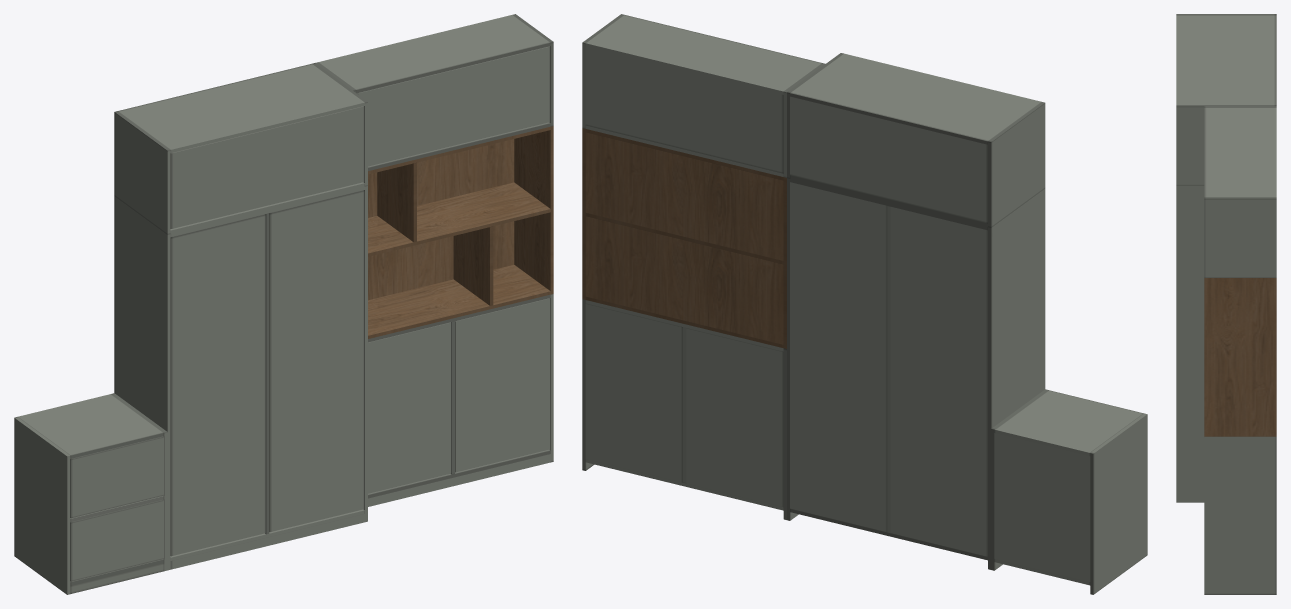
Rendered from meublep.glb.
3 renders of one model, left to right at view 1: azimuth 30°, elevation 25°; view 2: azimuth 150°, elevation 25°; view 3: azimuth 270°, elevation 25°, orthographic. The views are drawn at different scales.
Parts seen in each view (by area): view 1: world; view 2: world; view 3: world.
Boxes of the visible parts, left/top/right/bottom form: world: left=14, top=14, right=553, bottom=594; world: left=582, top=14, right=1147, bottom=594; world: left=1176, top=14, right=1276, bottom=594.
Bounding box in the file's own units: 3 × 2.4 × 0.55.
Materials: 1 (1 with a texture image).
